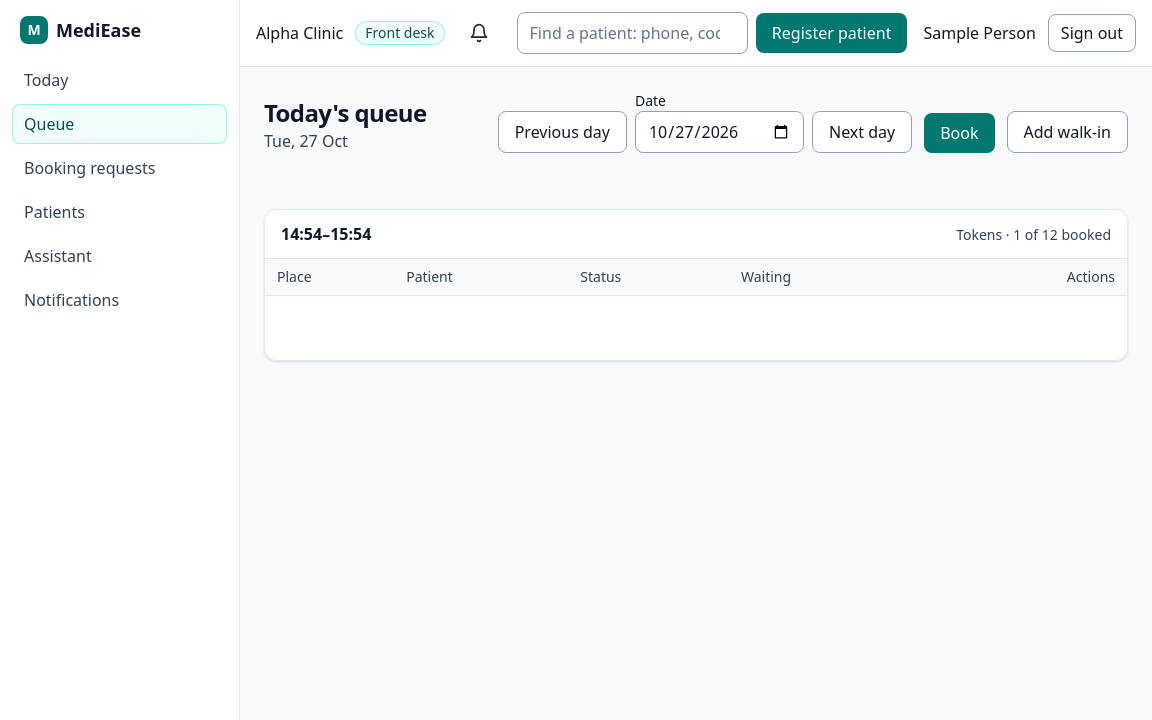
Test: queue board (M3-P5, FR-QUE-01) › D28: another day hides the queue steps but keeps booking
Click the button "Next day": (862, 132) [812, 111, 912, 153]
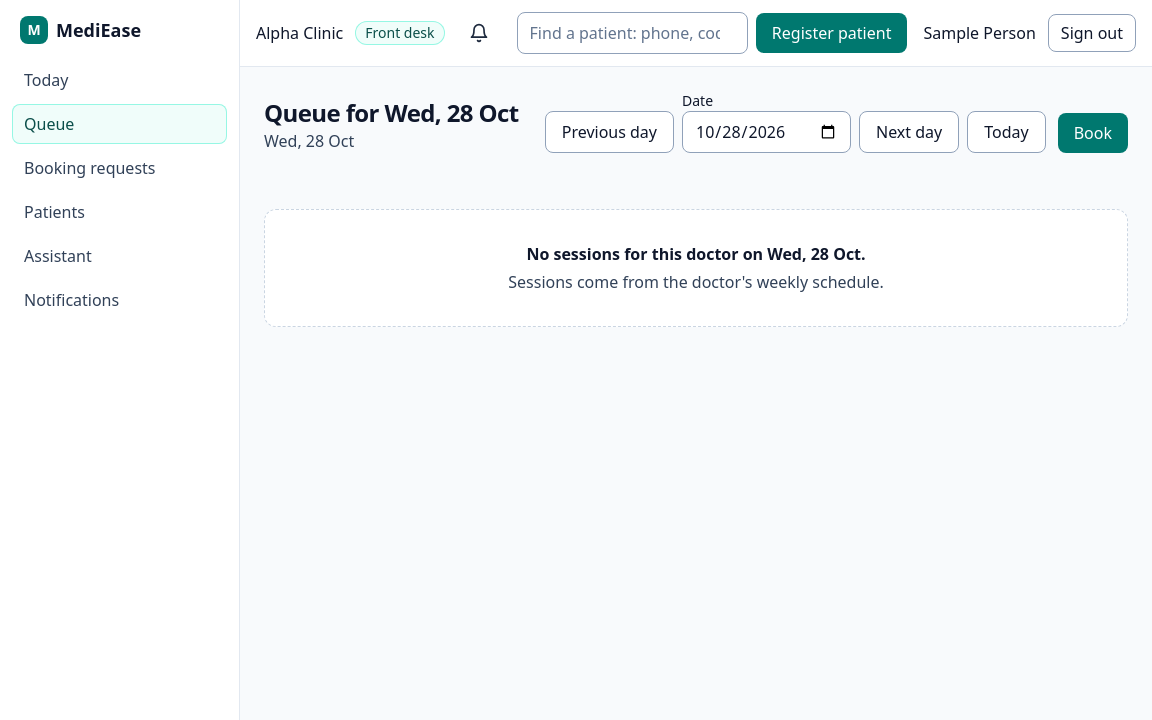
Expected: the button "Book" is shown, [1058, 113, 1128, 153]
Now the text "No sessions for this doctor on Wed, 28 Oct." is shown, box [526, 243, 866, 265]
Now the button "Add walk-in" is gone
